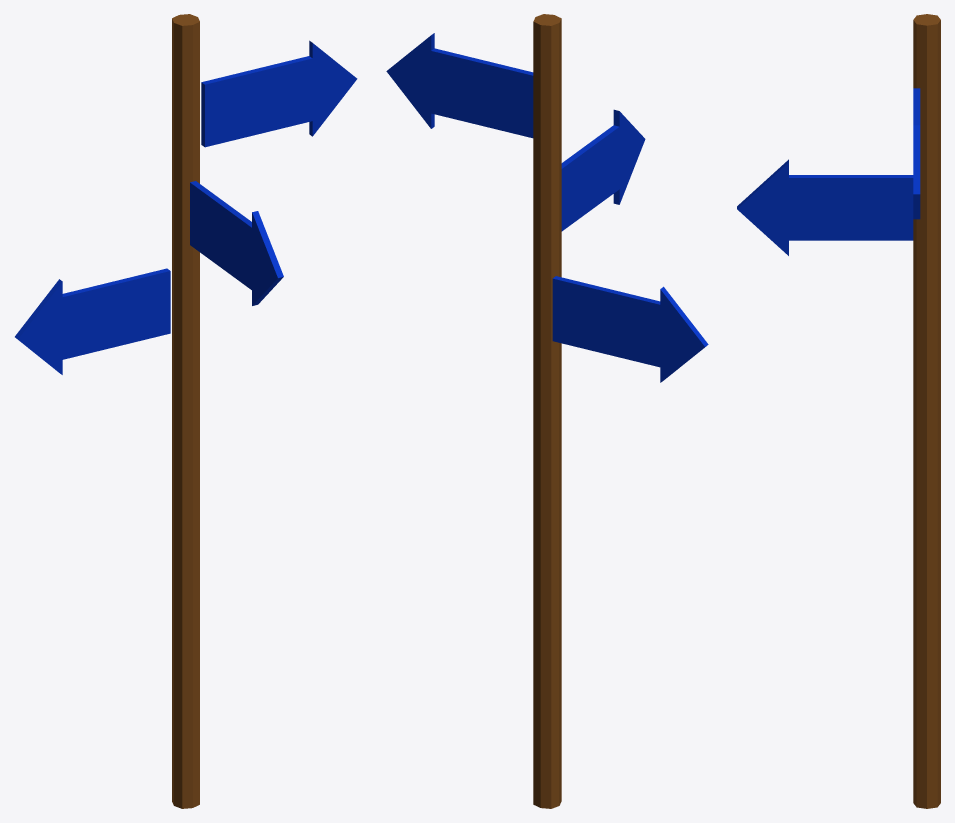
Rendered from guidepost.obj.
The picture shows the model from 3 angles, left to right: view 1: azimuth 30°, elevation 25°; view 2: azimuth 150°, elevation 25°; view 3: azimuth 270°, elevation 25°; orthographic projection.
Bounding box in the file's own units: 1.1 × 2.5 × 0.59.
